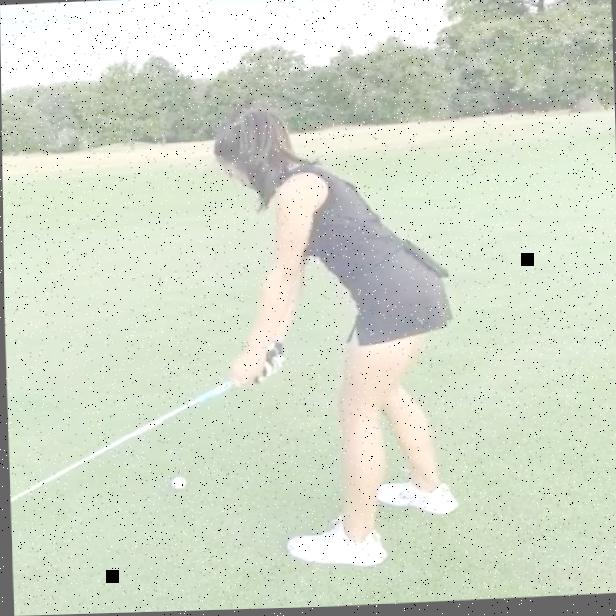GolfBall: (168, 473, 187, 489)
